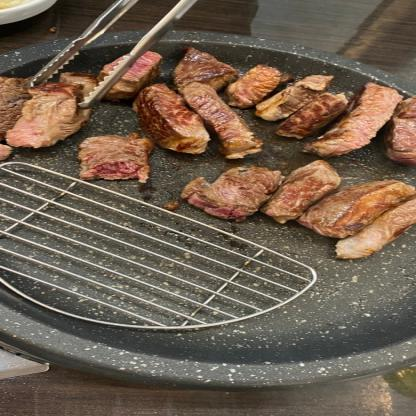Carne: (124, 86, 223, 162), (330, 180, 406, 249), (207, 164, 287, 221), (340, 78, 396, 152), (1, 91, 75, 146), (275, 168, 349, 218), (288, 94, 356, 148), (168, 49, 238, 96), (260, 74, 328, 117), (226, 68, 287, 106)
